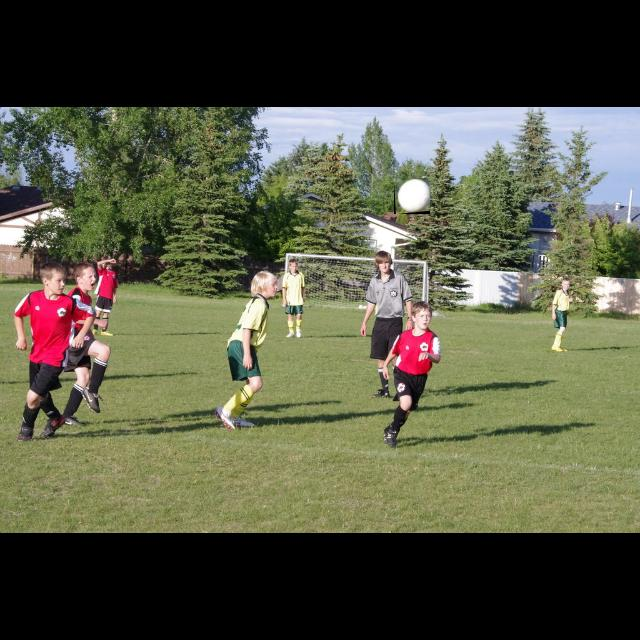Football: (394, 178, 430, 214)
